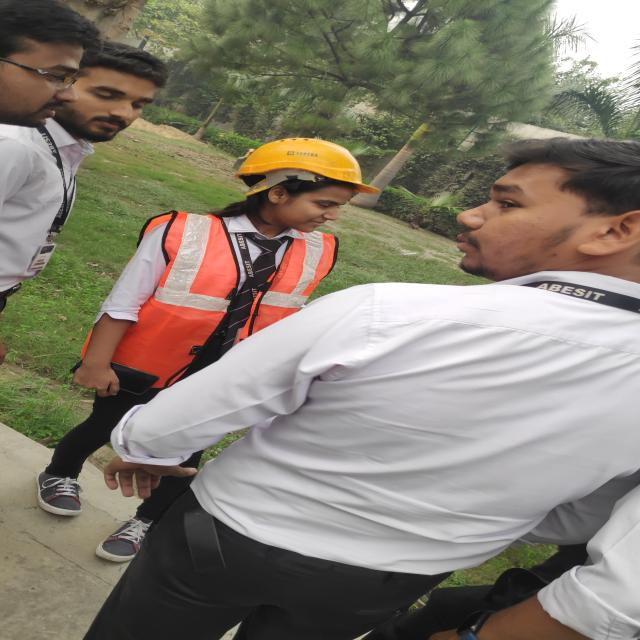safe: (35, 133, 384, 557)
unsafe: (102, 125, 640, 640), (1, 35, 173, 314)
